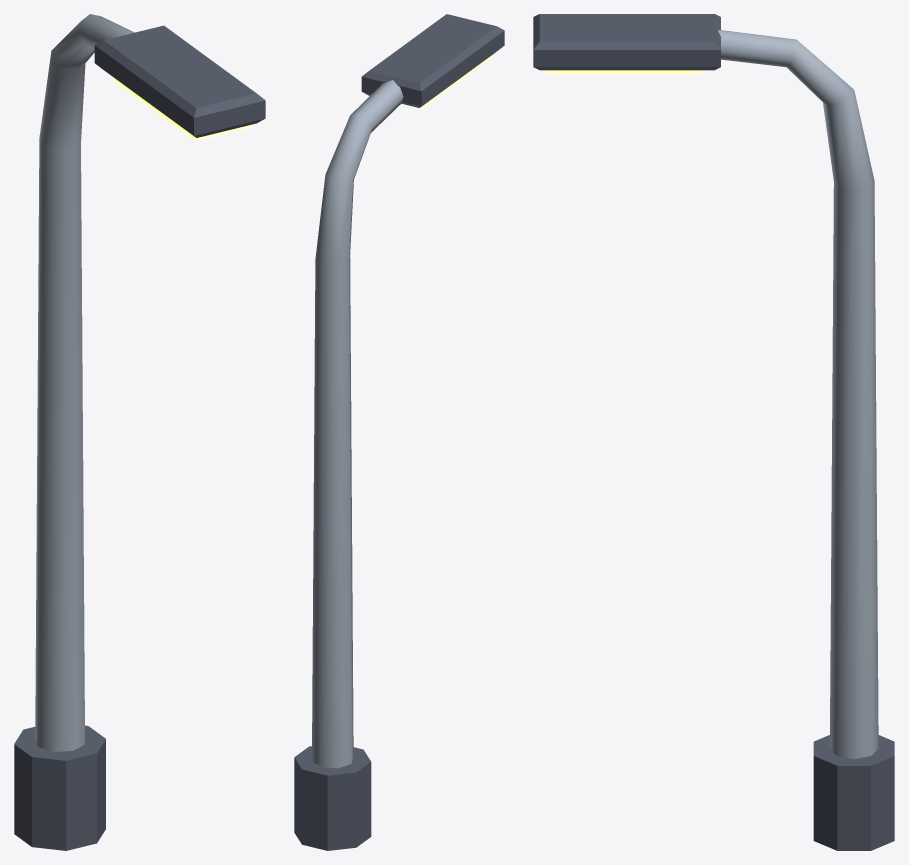
File: street-lamp.glb
3 renders of one model, left to right at view 1: azimuth 30°, elevation 25°; view 2: azimuth 150°, elevation 25°; view 3: azimuth 270°, elevation 25°, orthographic. The views are drawn at different scales.
Visible parts, largest first — view 1: Lamp pole, Lamp head, Lamp foot, Lamp panel; view 2: Lamp pole, Lamp head, Lamp foot; view 3: Lamp pole, Lamp head, Lamp foot, Lamp panel.
Boxes of the visible parts, bbox=[...] form: Lamp pole: bbox=[35, 14, 134, 751]; Lamp head: bbox=[94, 25, 265, 137]; Lamp foot: bbox=[14, 725, 105, 850]; Lamp panel: bbox=[113, 77, 250, 140]; Lamp pole: bbox=[312, 80, 403, 768]; Lamp head: bbox=[361, 14, 504, 107]; Lamp foot: bbox=[294, 746, 371, 850]; Lamp pole: bbox=[717, 30, 878, 758]; Lamp head: bbox=[533, 14, 720, 70]; Lamp foot: bbox=[813, 735, 894, 850]; Lamp panel: bbox=[545, 70, 702, 74].
Size of the model in its own units: 0.5174 by 5.68 by 2.31.
